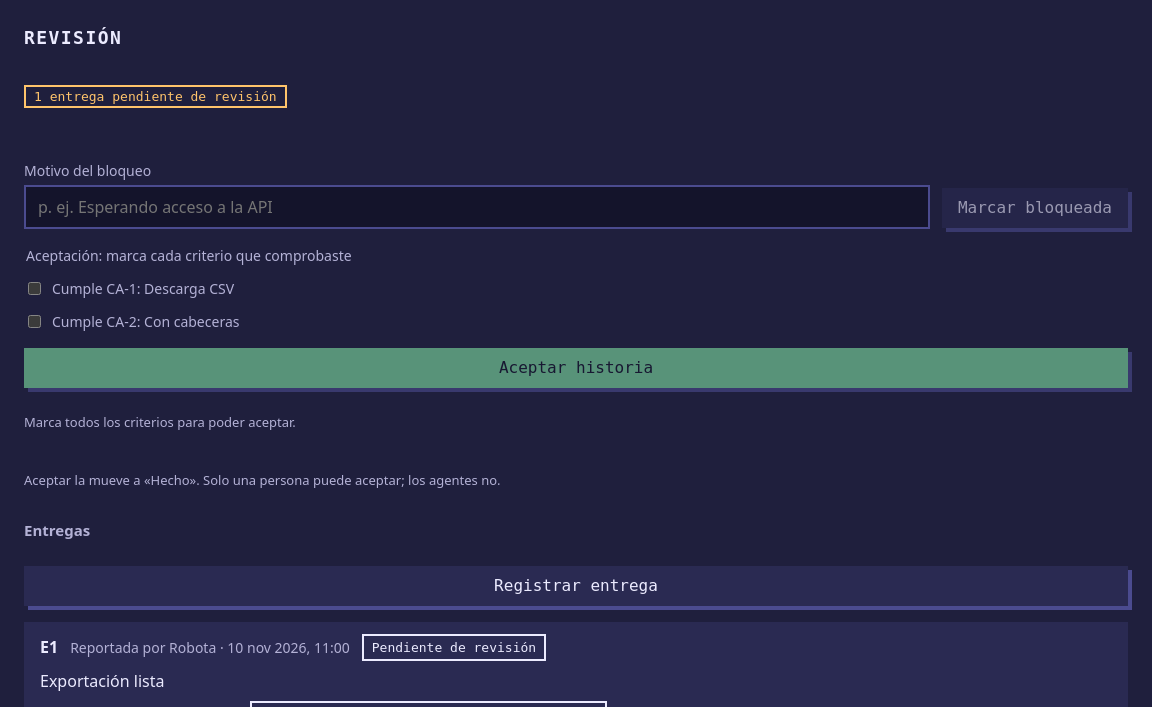
Test: ReviewPanel › muestra el error de acción no permitida que devuelve el núcleo
What coordinates should you click on to do the following:
click the checkbox labelled "Cumple CA-1: Descarga CSV"
I would click on:
 (34, 288)
Its box is [28, 282, 41, 295].
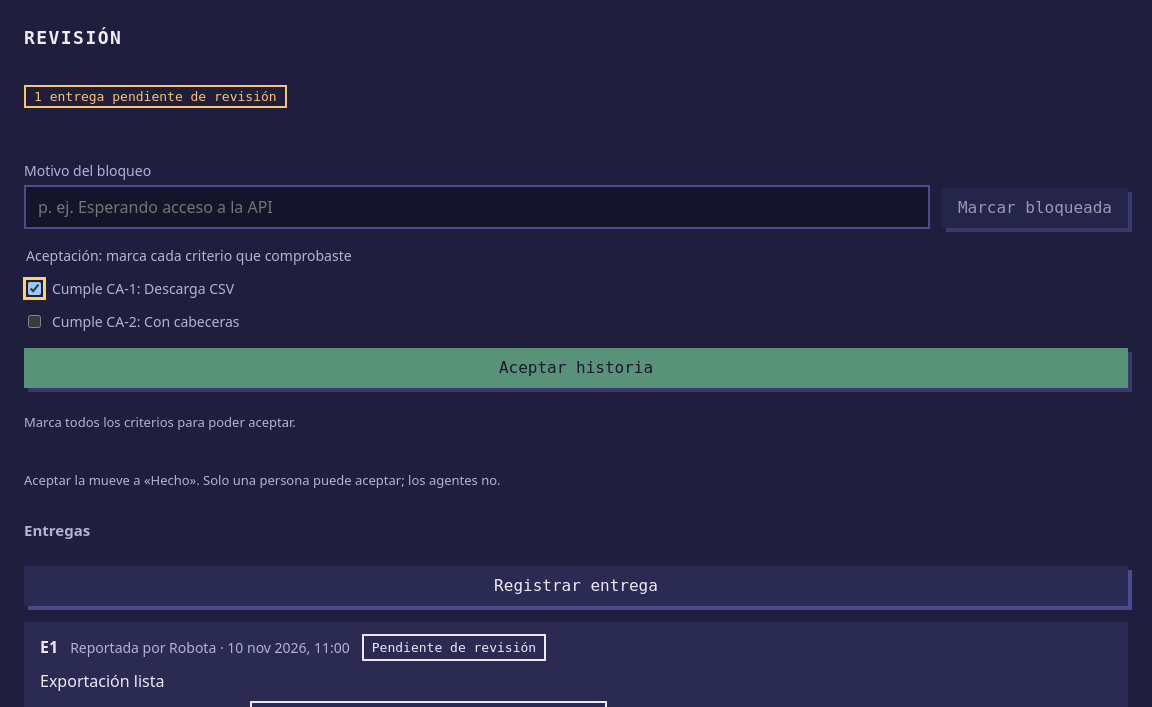
What coordinates should you click on to do the following:
click the checkbox labelled "Cumple CA-2: Con cabeceras"
I would click on:
 (34, 322)
Its box is [28, 315, 41, 328].
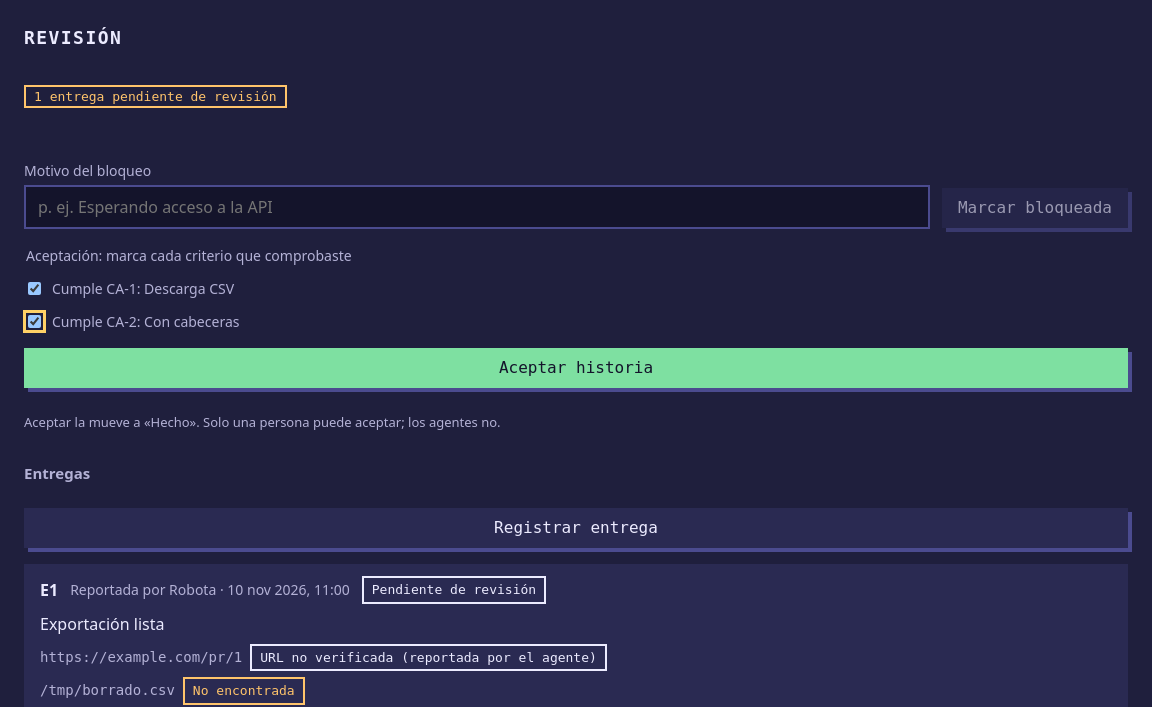
What coordinates should you click on to do the following:
click the button "Aceptar historia"
I would click on:
 (576, 368)
Its box is [24, 348, 1128, 388].
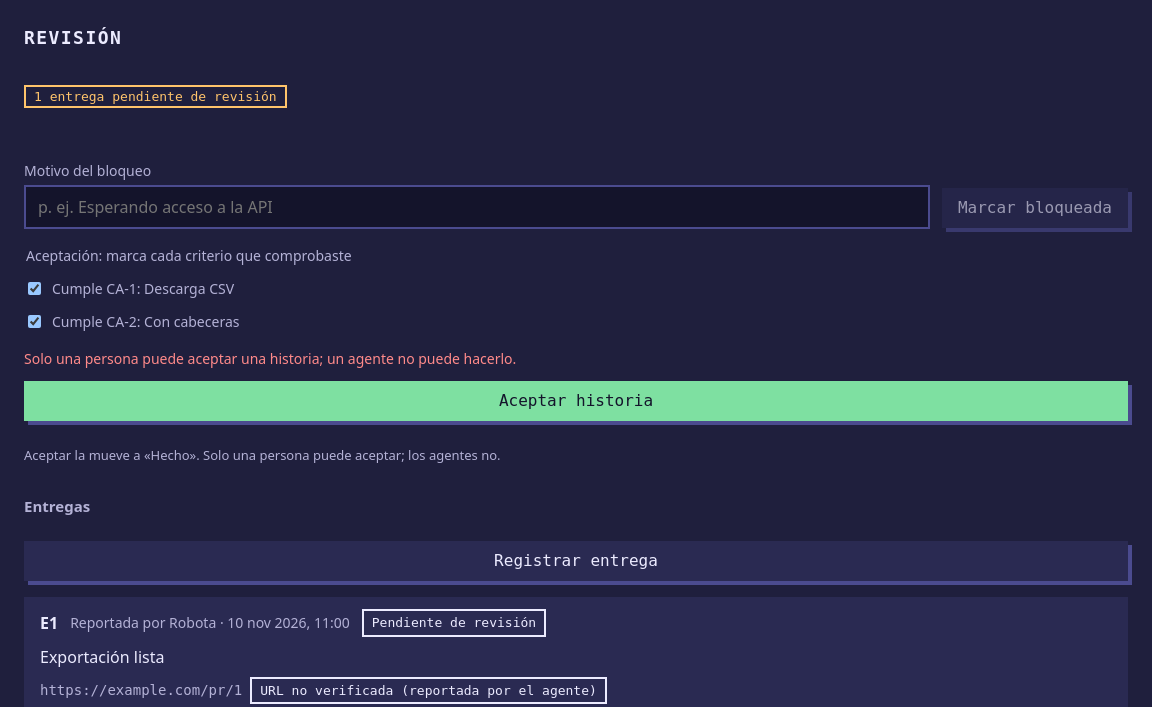
Expected: the message "Solo una persona puede aceptar una historia; un agente no puede hacerlo." is shown, [24, 349, 516, 368]
